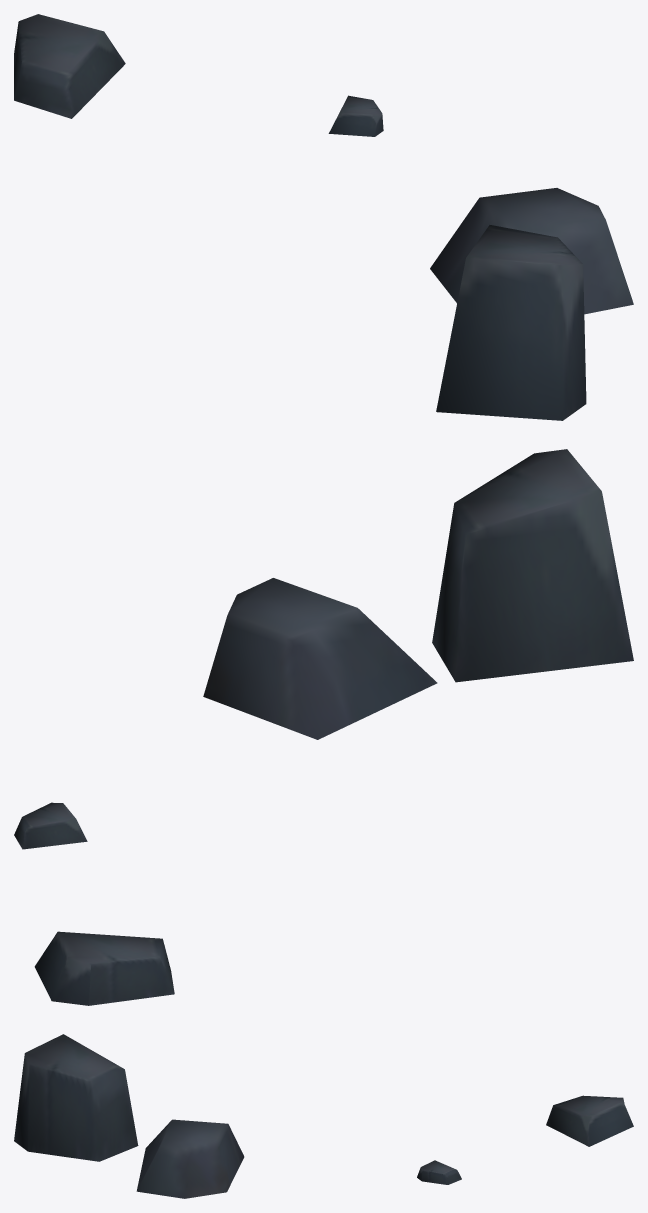
The model's file is Area_01_8.fbx.
3 views of the same model, one above another, from view 1: azimuth 30°, elevation 25°; view 2: azimuth 150°, elevation 25°; view 3: azimuth 270°, elevation 25° (orthographic). The views are drawn at different scales.
Parts seen in each view (by area): view 1: Area_01_8; view 2: Area_01_8; view 3: Area_01_8.
Part boxes in pixels (x1=…): Area_01_8: x1=14, y1=14, x2=633, y2=420; Area_01_8: x1=14, y1=449, x2=633, y2=1005; Area_01_8: x1=14, y1=1034, x2=633, y2=1198.
Bounding box in the file's own units: 945 × 474 × 2921.
